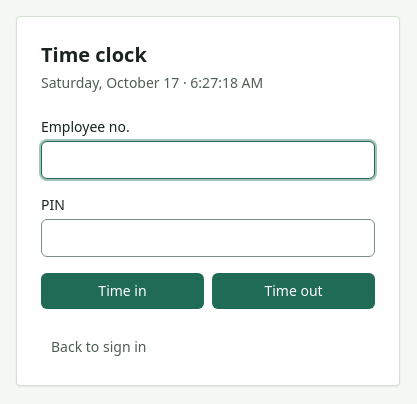
KioskPage › clocks in with the employee number and PIN, then clears the form
Type " EMP-0001 " into the field labelled "Employee no.". click: (208, 160)
box: [41,141,375,179]
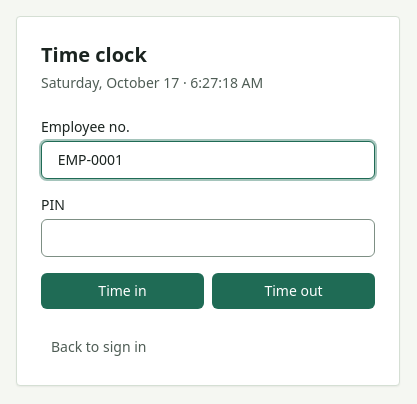
Type "1234" into the password field labelled "PIN". click: (208, 238)
box: [41,219,375,257]
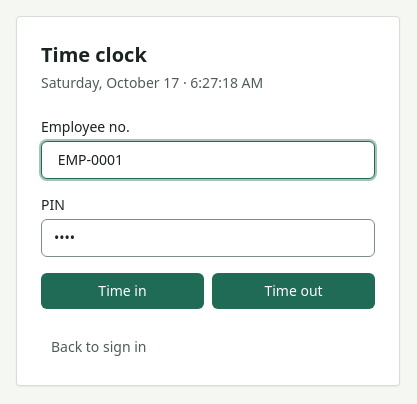
Click the button "Time in". click: click(122, 291)
box: [41,273,204,309]
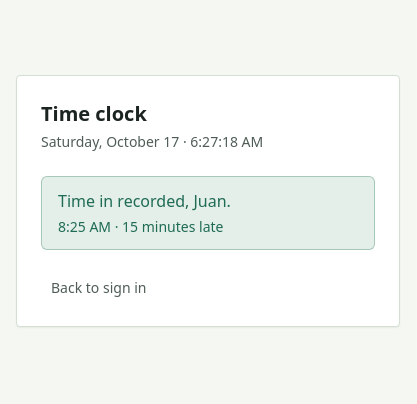
Expected: the message shows "Time in recorded, Juan.", [41,176,375,250]
Expected: the message shows "8:25 AM · 15 minutes late", [41,176,375,250]
